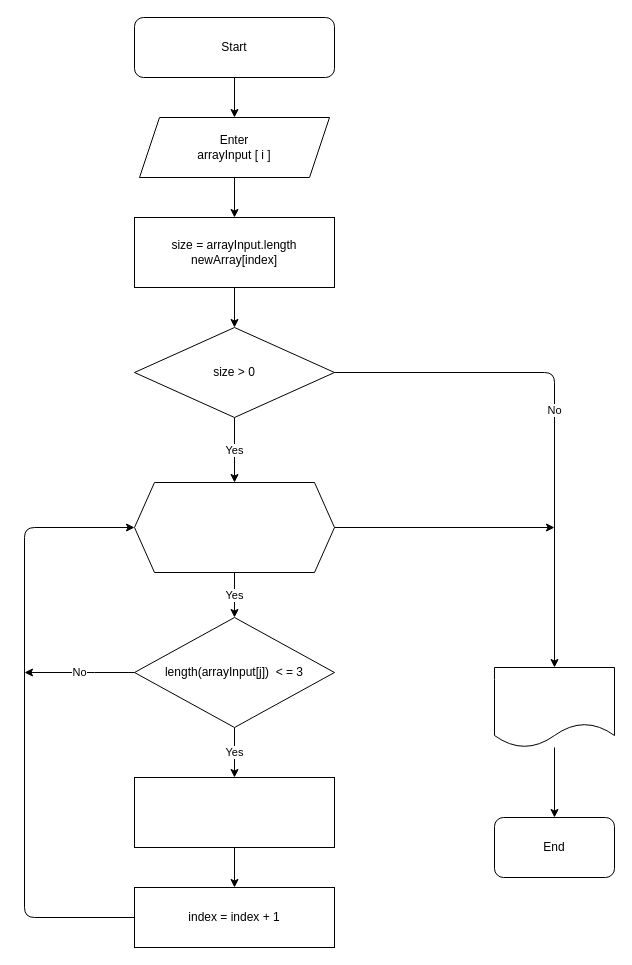
Image size: 632x965. Some labels were removed from this diagram. The shapes that lost their labels are listed below. From the top down, each one's centre as x and y in pixels, then its label:
point (234, 527): j = 0; j < length; j++
point (554, 707): Print arrayInput newArray
point (234, 812): newArray[index] = arrayInput [j]
